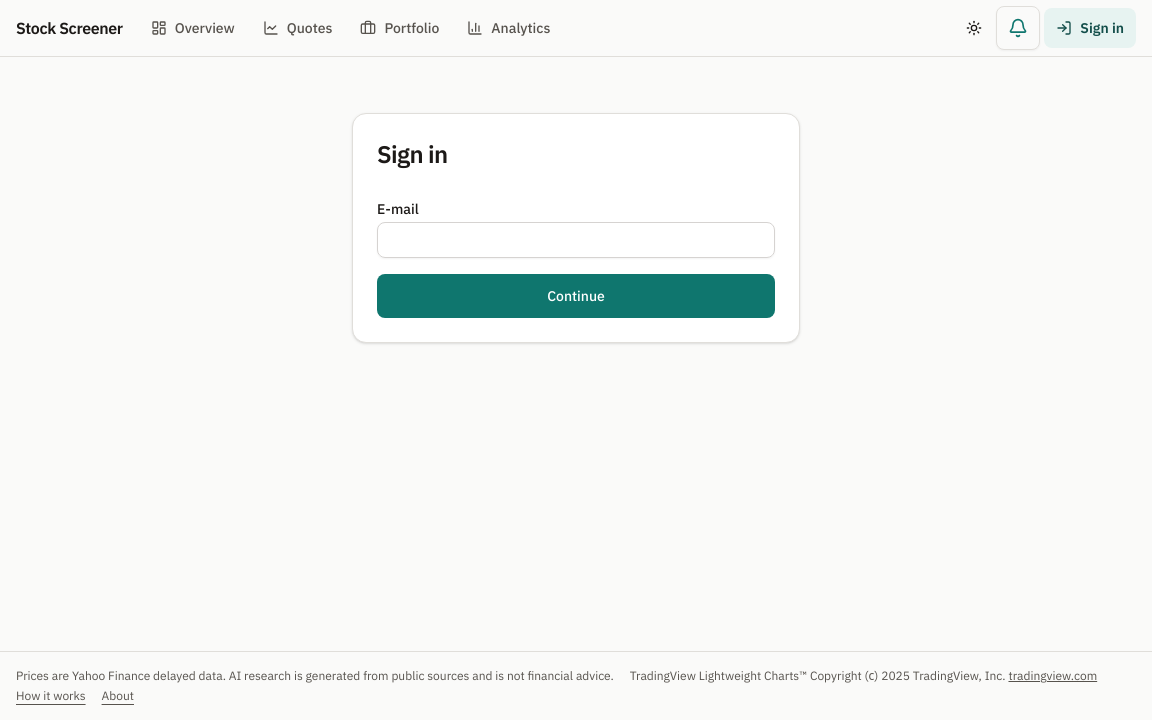
it: sign-in, on the list without a password › Change goes back to step 1 with the e-mail kept
In the field labelled "E-mail": point(576, 240) [377,222,775,258], type "friend@example.com"
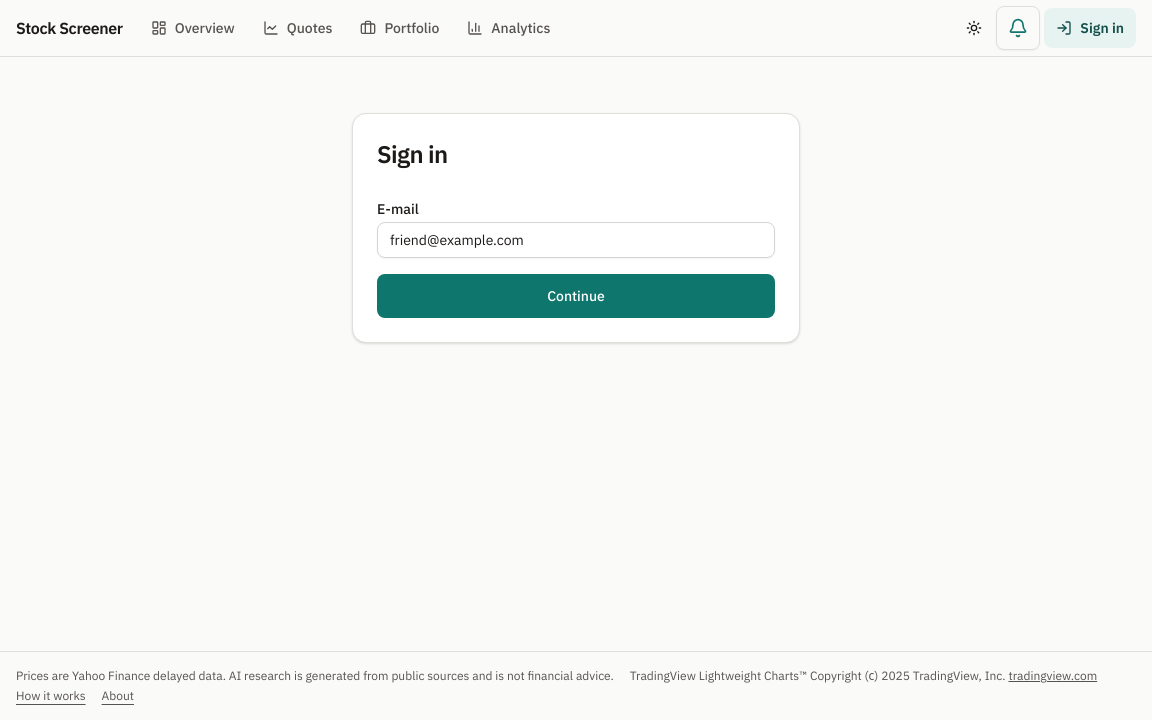
Submit the form "Continue", box [377,202,775,318]
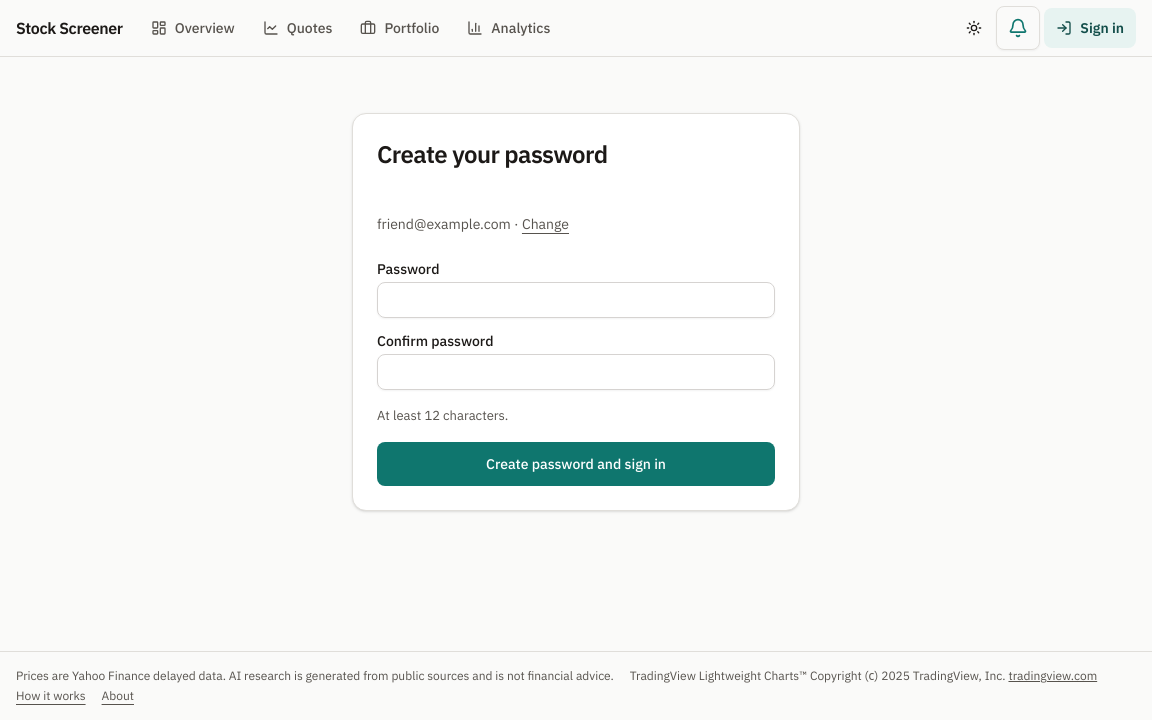
Expected: the heading "Create your password" is shown, [377,138,608,170]
Click the button "Change": point(545, 224) [522,202,569,246]
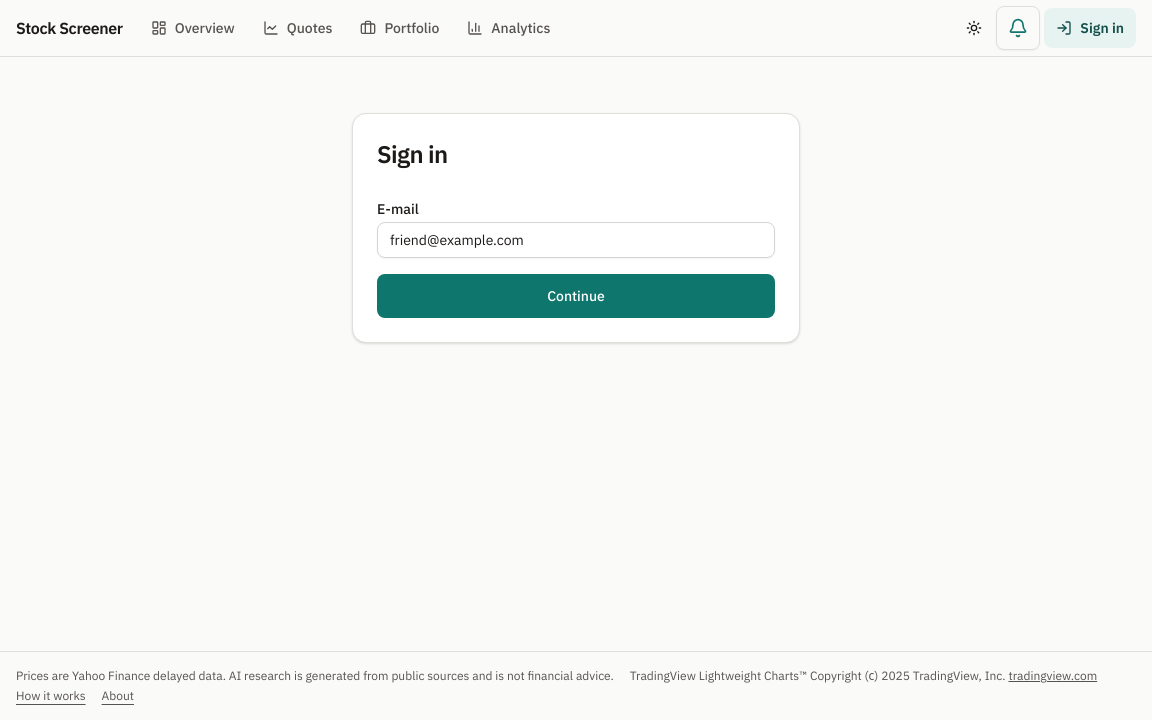
Expected: the field labelled "E-mail" holds "friend@example.com", [377,222,775,258]
